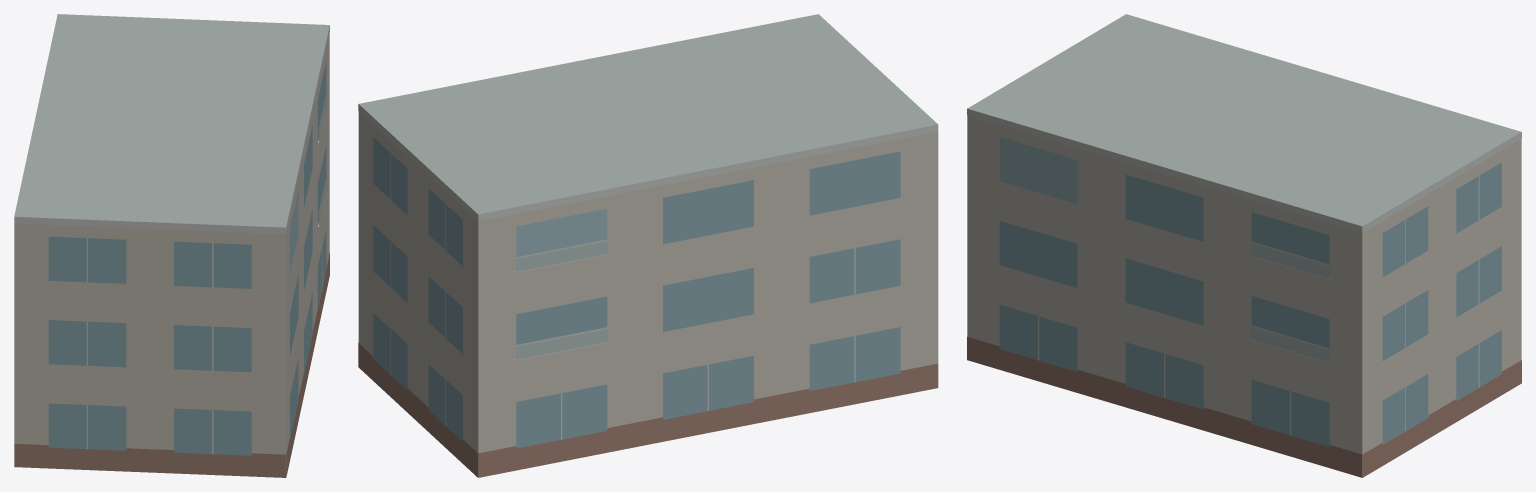
Rendered from survey-upis-32912447.glb.
3 views of the same model, side by side, from view 1: azimuth 30°, elevation 25°; view 2: azimuth 150°, elevation 25°; view 3: azimuth 270°, elevation 25° (orthographic). The views are drawn at different scales.
Parts seen in each view (by area): view 1: survey-upis-32912447.tmp; view 2: survey-upis-32912447.tmp; view 3: survey-upis-32912447.tmp.
Boxes of the visible parts, <box> form: survey-upis-32912447.tmp: <box>14,14,329,477</box>; survey-upis-32912447.tmp: <box>358,14,938,477</box>; survey-upis-32912447.tmp: <box>967,14,1521,477</box>.
Size of the model in its own units: 16.59 by 9.15 by 18.3.
